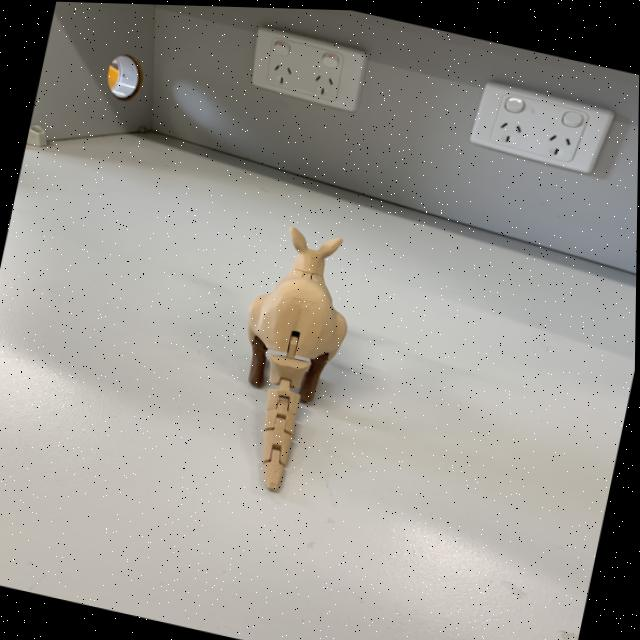kangaroo: (218, 229, 360, 507)
